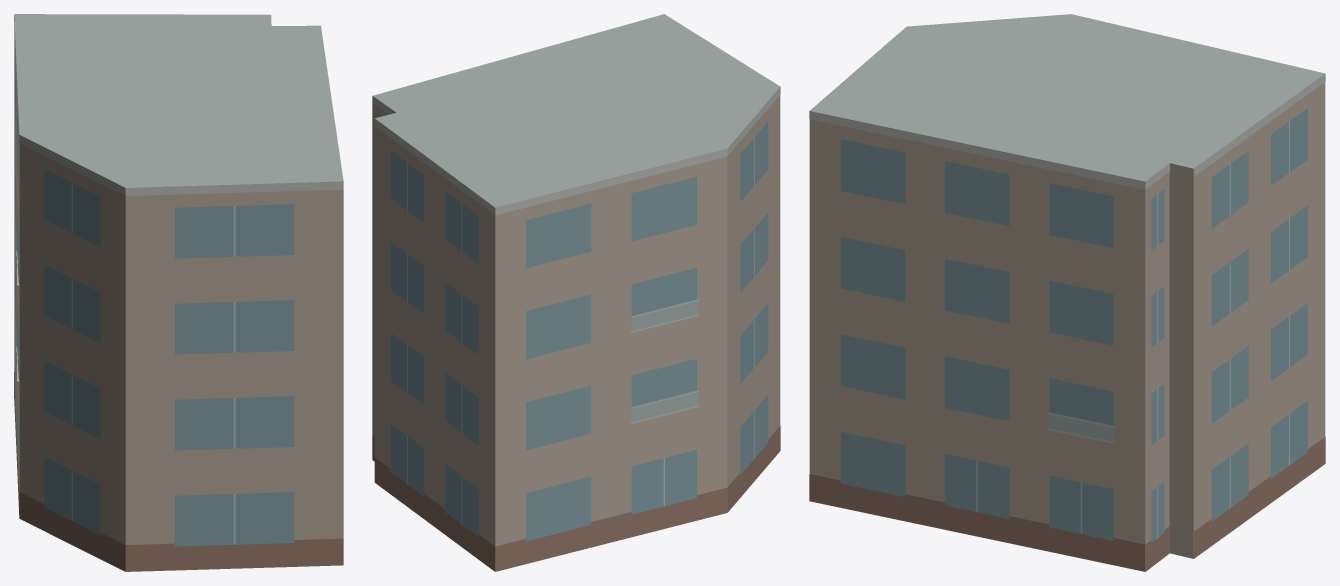
The model's file is survey-upis-32673044.glb.
3 views of the same model, side by side, from view 1: azimuth 30°, elevation 25°; view 2: azimuth 150°, elevation 25°; view 3: azimuth 270°, elevation 25° (orthographic). The views are drawn at different scales.
Visible parts, largest first — view 1: survey-upis-32673044.tmp; view 2: survey-upis-32673044.tmp; view 3: survey-upis-32673044.tmp.
Part boxes in pixels (left/top/right/bottom): survey-upis-32673044.tmp: left=14, top=14, right=343, bottom=571; survey-upis-32673044.tmp: left=372, top=14, right=780, bottom=571; survey-upis-32673044.tmp: left=809, top=14, right=1325, bottom=571.
Bounding box in the file's own units: 10.65 × 11.55 × 13.85.
